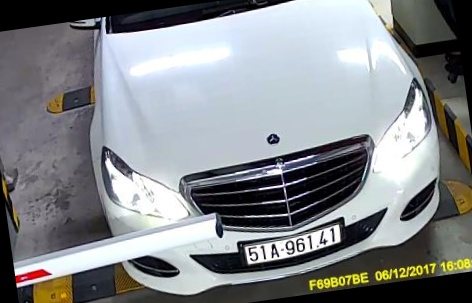plate: (242, 209, 350, 263)
